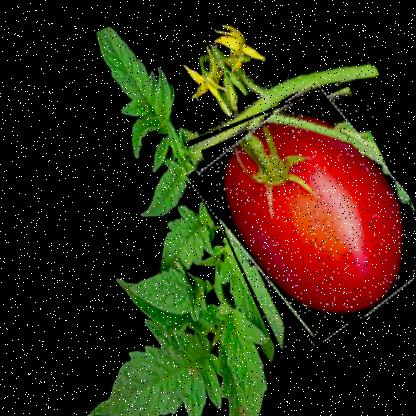tomato: (178, 71, 415, 354)
